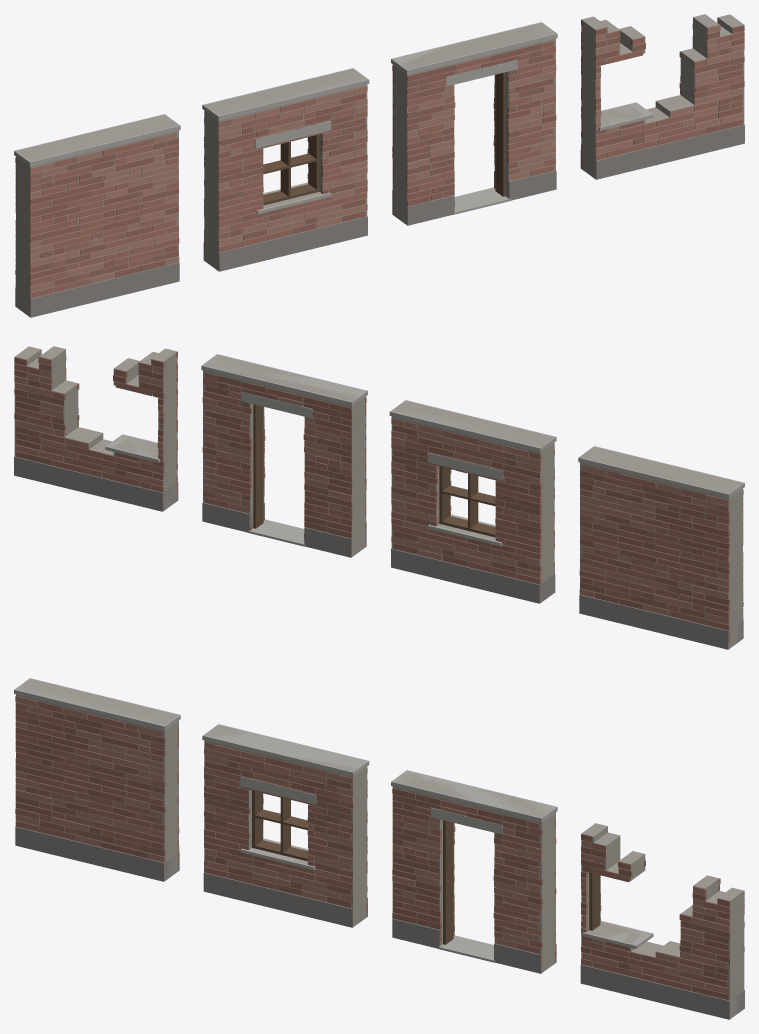
File: walls_1.glb
The picture shows the model from 3 angles, top to bottom: view 1: azimuth 30°, elevation 25°; view 2: azimuth 150°, elevation 25°; view 3: azimuth 330°, elevation 25°; orthographic projection.
Visible parts, largest first — view 1: wall_brick_solid, wall_brick_window, wall_brick_door, wall_brick_ruined, COL_wall_brick_solid, COL_wall_brick_window, COL_wall_brick_door, COL_wall_brick_ruined; view 2: wall_brick_solid, wall_brick_window, wall_brick_door, wall_brick_ruined, COL_wall_brick_solid, COL_wall_brick_window, COL_wall_brick_door, COL_wall_brick_ruined; view 3: wall_brick_solid, wall_brick_window, wall_brick_door, wall_brick_ruined, COL_wall_brick_solid, COL_wall_brick_ruined, COL_wall_brick_window, COL_wall_brick_door.
Boxes of the visible parts, x1,y1,x2,y2 form: wall_brick_solid: [14, 114, 180, 317]; wall_brick_window: [202, 68, 369, 271]; wall_brick_door: [391, 22, 557, 225]; wall_brick_ruined: [580, 18, 744, 179]; COL_wall_brick_solid: [16, 115, 178, 316]; COL_wall_brick_window: [204, 69, 367, 270]; COL_wall_brick_door: [392, 23, 555, 224]; COL_wall_brick_ruined: [581, 14, 744, 178]; wall_brick_solid: [578, 446, 744, 649]; wall_brick_window: [389, 400, 556, 603]; wall_brick_door: [201, 354, 367, 557]; wall_brick_ruined: [14, 350, 178, 511]; COL_wall_brick_solid: [580, 447, 742, 648]; COL_wall_brick_window: [391, 401, 554, 584]; COL_wall_brick_door: [203, 355, 366, 556]; COL_wall_brick_ruined: [14, 346, 177, 509]; wall_brick_solid: [14, 678, 180, 881]; wall_brick_window: [202, 724, 369, 927]; wall_brick_door: [391, 770, 557, 973]; wall_brick_ruined: [580, 833, 744, 1019]; COL_wall_brick_solid: [16, 679, 178, 879]; COL_wall_brick_ruined: [581, 823, 744, 1019]; COL_wall_brick_window: [204, 725, 367, 927]; COL_wall_brick_door: [392, 773, 555, 972].
Bounding box in the file's own units: 14.42 × 3 × 0.6.
